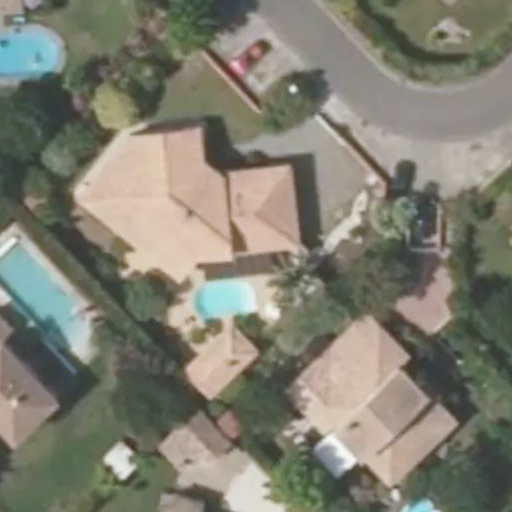pool: (223, 227, 286, 254)
